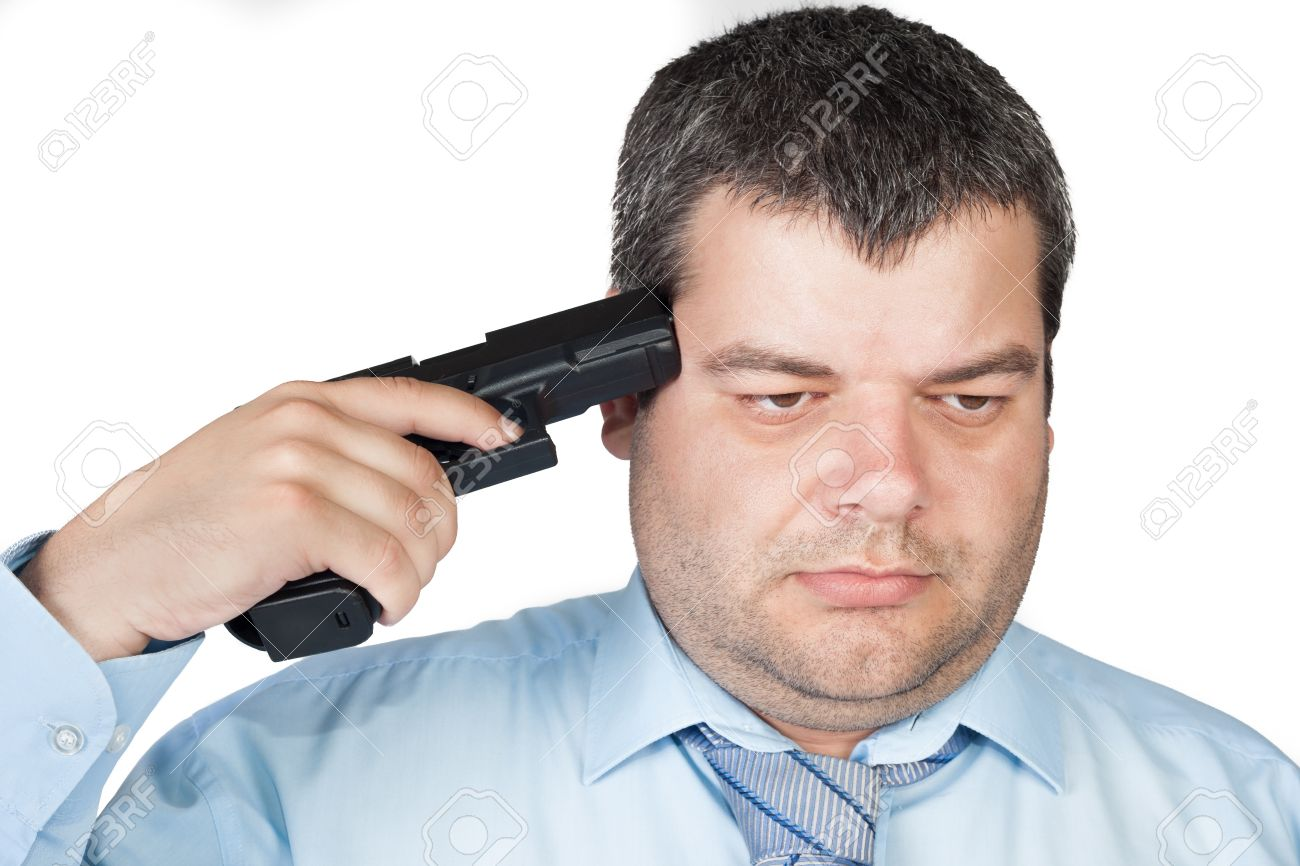pistol: (217, 284, 683, 661)
